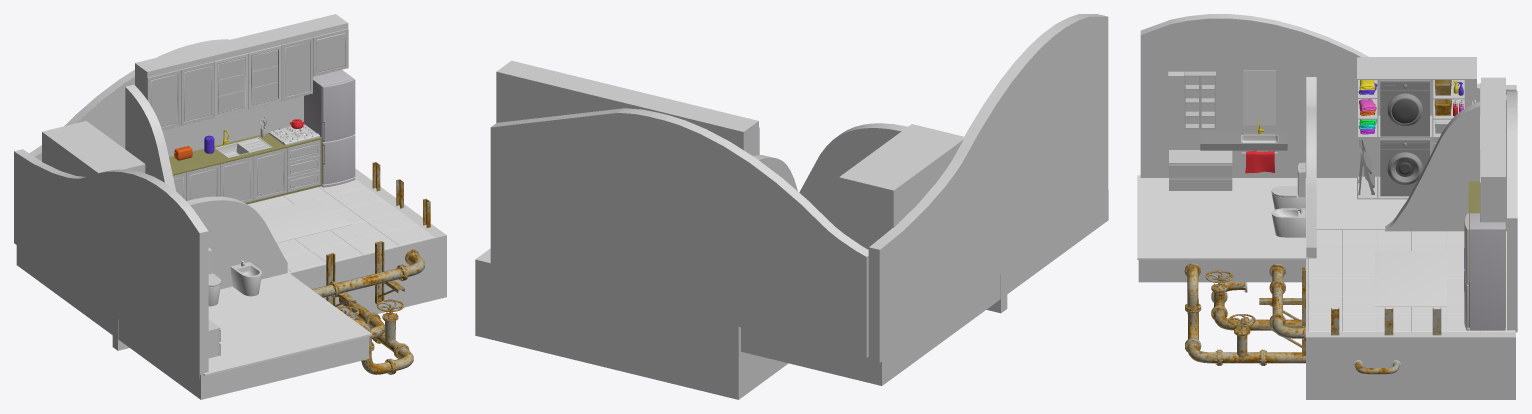
File: newfixedmodel.glb
3 renders of one model, left to right at view 1: azimuth 30°, elevation 25°; view 2: azimuth 150°, elevation 25°; view 3: azimuth 270°, elevation 25°, orthographic. The views are drawn at different scales.
Parts seen in each view (by area): view 1: wall.006, wall.007, items.098, wall.001, wall.008, wall.045, items.092, wall.004, items.081, items.039, wall.014, items.094 (+14 smaller); view 2: wall.003, wall.006, wall.008, wall.001, items.039, items.094, wall.004, wall.010, wall.009, items.006; view 3: wall.007, wall.006, wall.008, wall.045, wall.002, items.039, items.081, wall.001, items.015, items.053, items.094, wall.012 (+17 smaller).
Part boxes in pixels (x1,y1,x2,y2): wall.006: (14,151,208,378); wall.007: (203,179,434,376); items.098: (147,29,348,130); wall.001: (16,245,369,399); wall.008: (289,168,446,319); wall.045: (312,162,430,374); items.092: (173,140,320,202); wall.004: (112,200,287,350); items.081: (304,70,355,187); items.039: (42,121,145,176); wall.014: (162,96,303,156); items.094: (135,23,312,99); wall.003: (490,112,868,357); wall.006: (868,16,1108,362); wall.008: (475,248,788,399); wall.001: (741,190,1108,385); items.039: (839,124,963,249); items.094: (540,71,758,155); wall.004: (799,128,1007,313); wall.010: (869,14,1107,249); wall.009: (491,108,868,256); items.006: (496,60,554,122); wall.007: (1137,175,1515,331); wall.006: (1140,18,1516,177); wall.008: (1306,259,1515,399); wall.045: (1184,263,1441,374); wall.002: (1385,100,1506,231); items.039: (1357,57,1476,199); items.081: (1464,213,1505,330); wall.001: (1138,260,1305,282); items.015: (1380,80,1429,136); items.053: (1380,138,1429,196); items.094: (1481,77,1505,159); wall.012: (1306,77,1316,247).
Bounding box in the file's own units: 6.46 × 4.1 × 6.09.
Materials: 18 (1 with a texture image).
